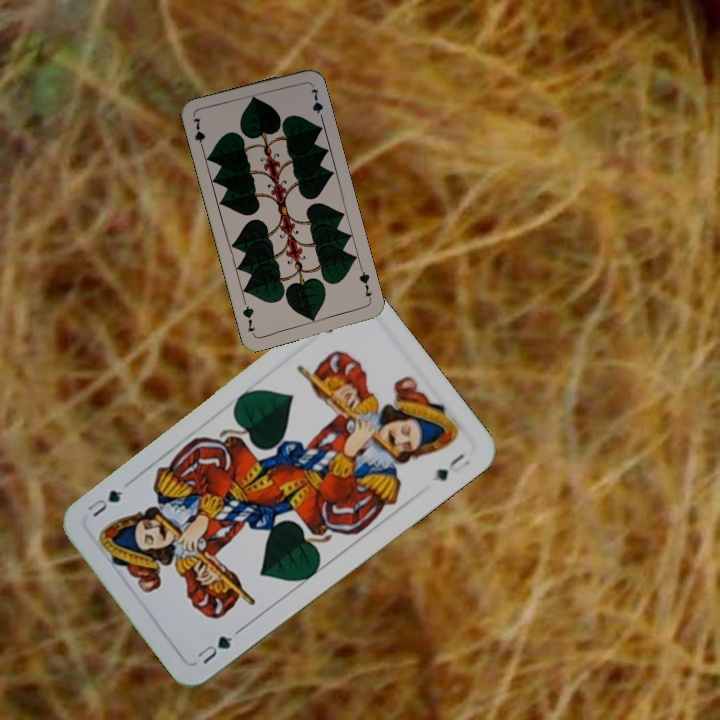G7: (189, 113, 208, 154), (355, 264, 374, 304)
GU: (191, 631, 236, 667)
